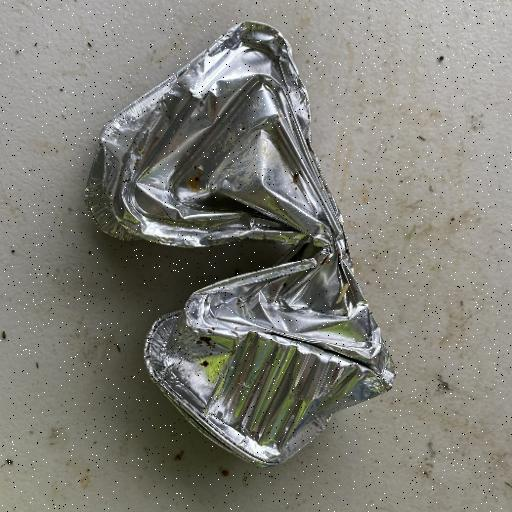Metal: (82, 20, 398, 468)
